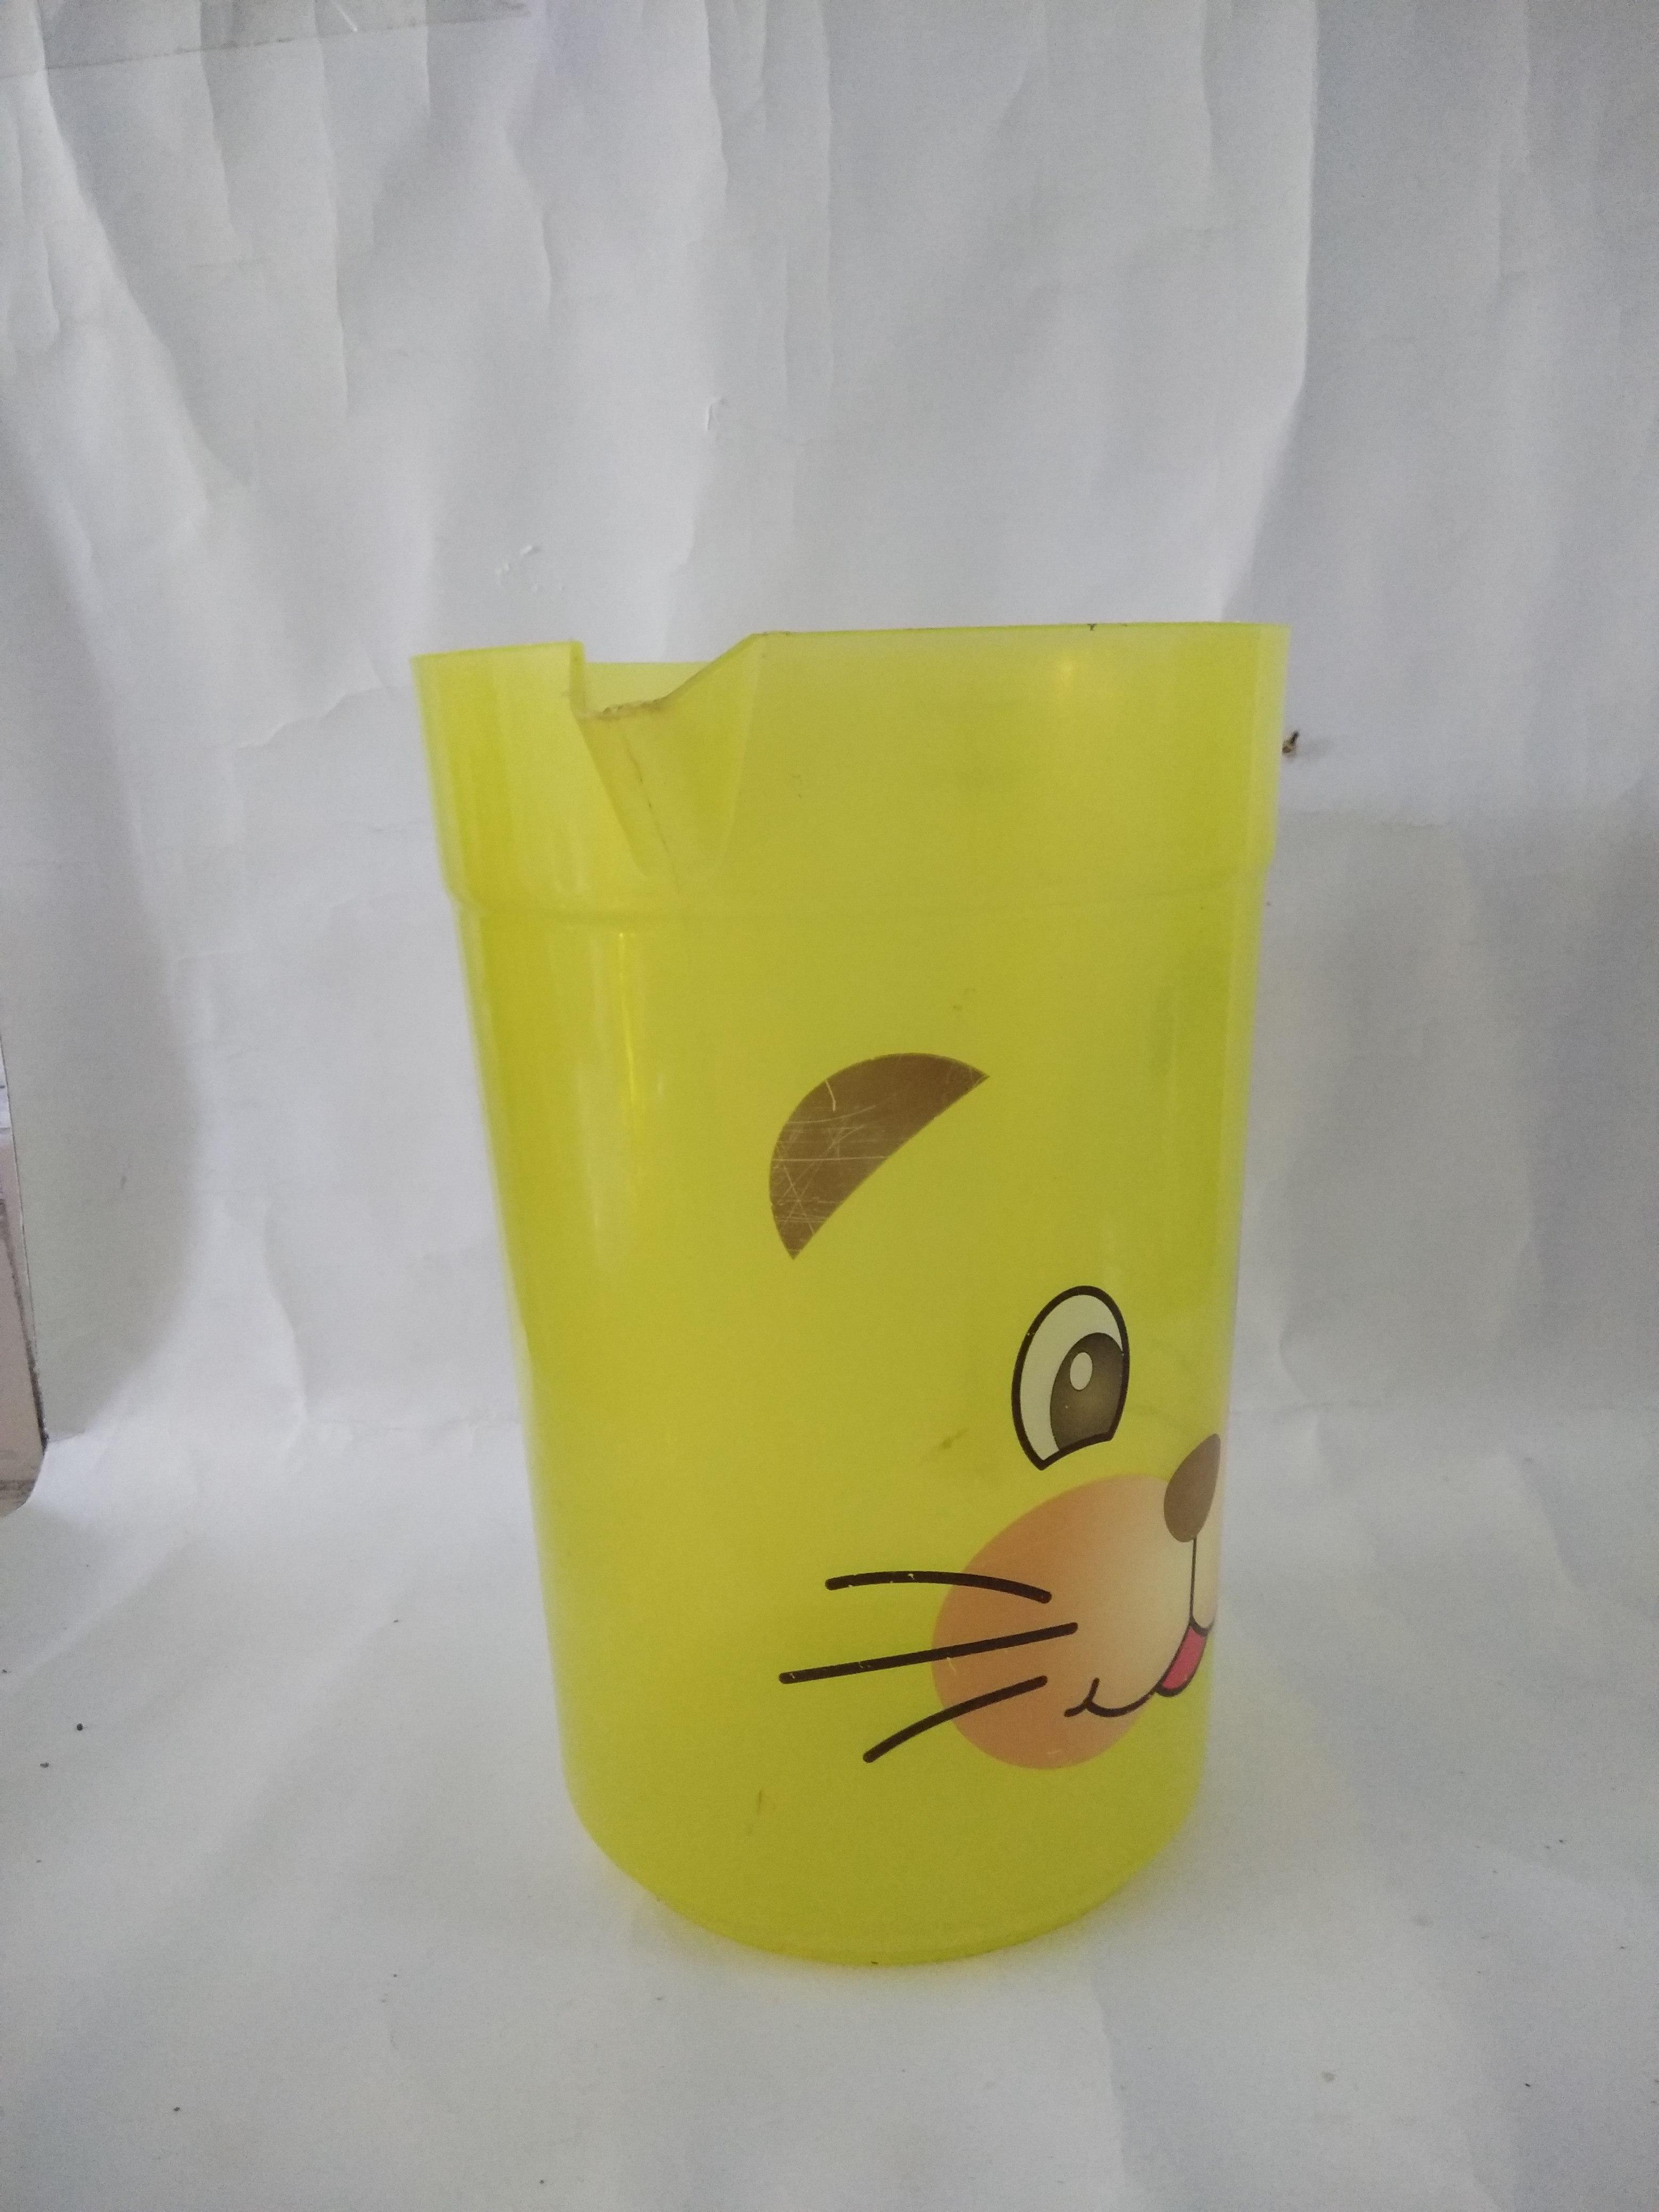PP: (204, 279, 1659, 2212)
